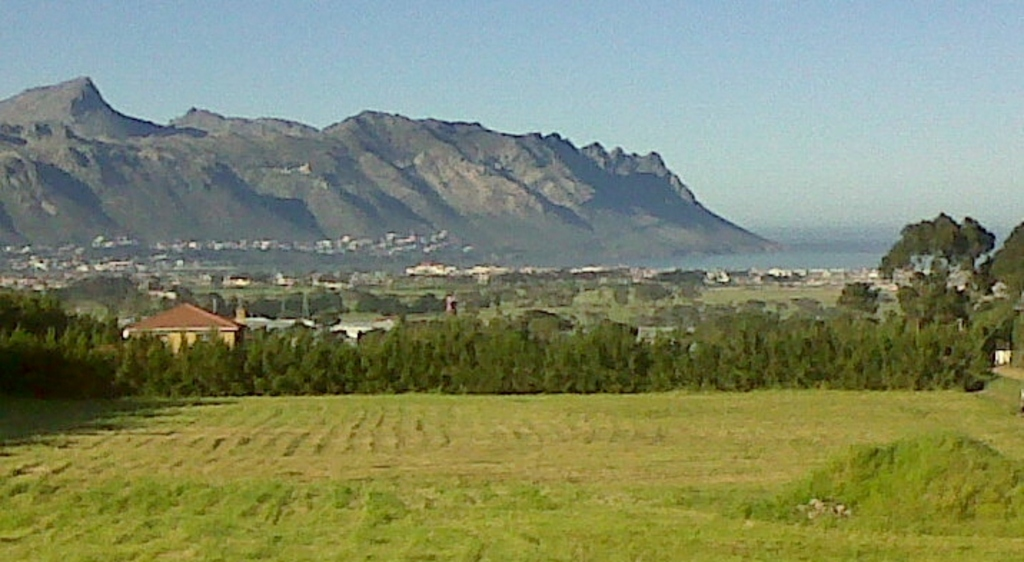Tree: (0, 212, 1024, 393)
